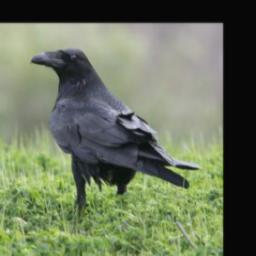Crow: (31, 48, 202, 219)
